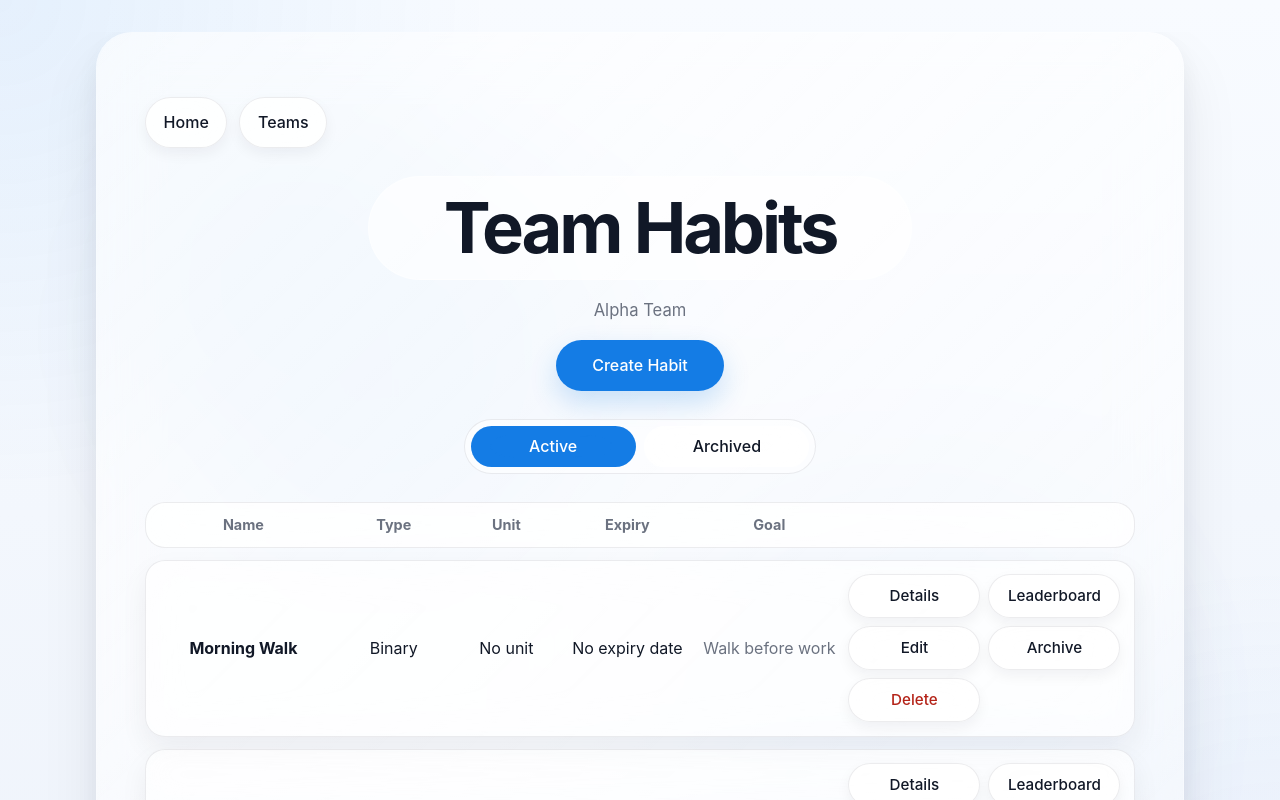
Test: loads archived habits when switching to Archived tab
Expected: the text "Morning Walk" is shown, [189,638,298,658]
Click the tab "Archived" at (727,446), box [644,426,809,467]
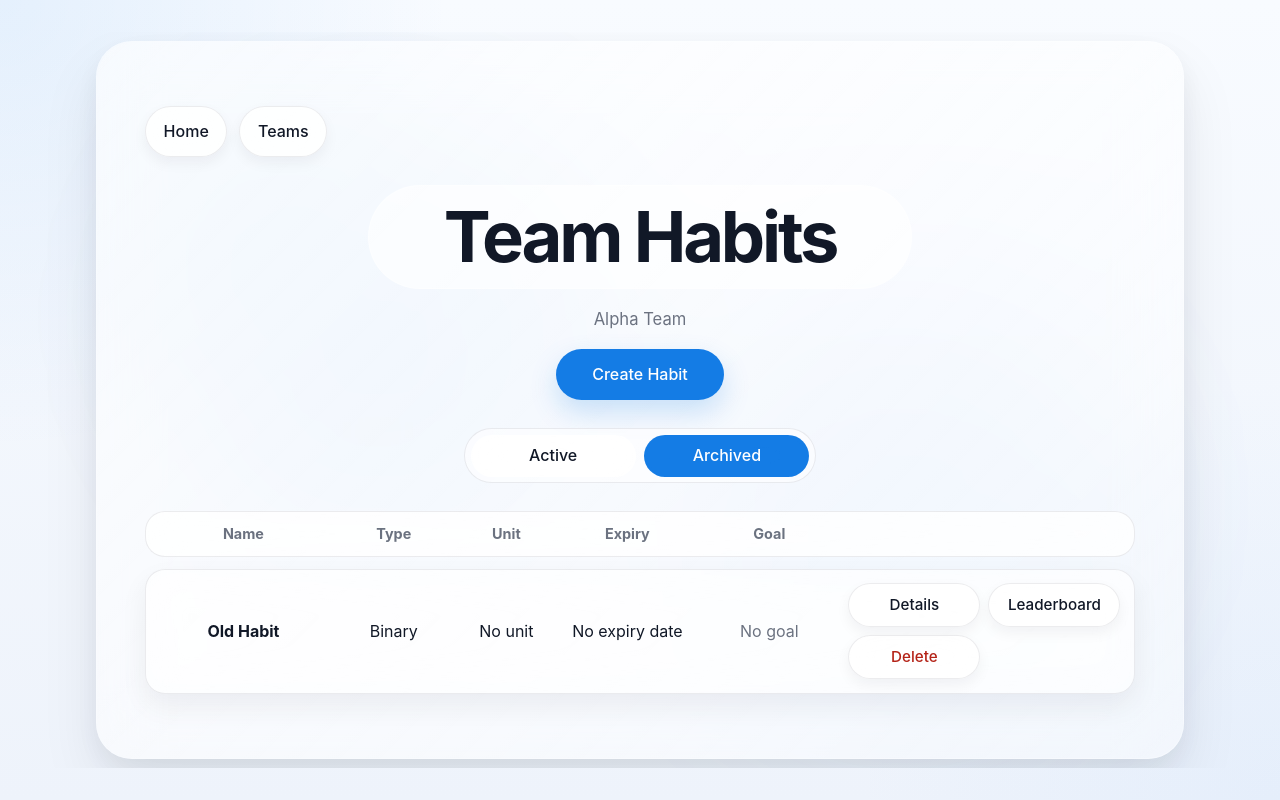
Result: the text "Old Habit" is shown at [207,621,280,641]
Result: the text "Morning Walk" is gone
